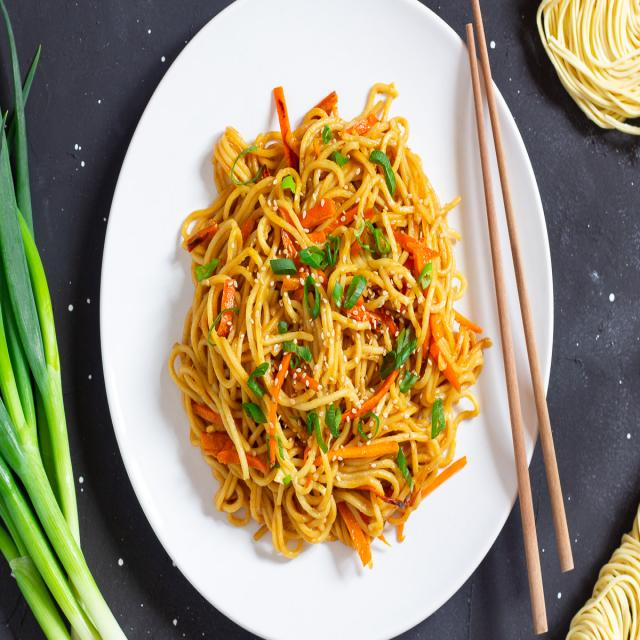Noodle: (185, 88, 468, 542)
